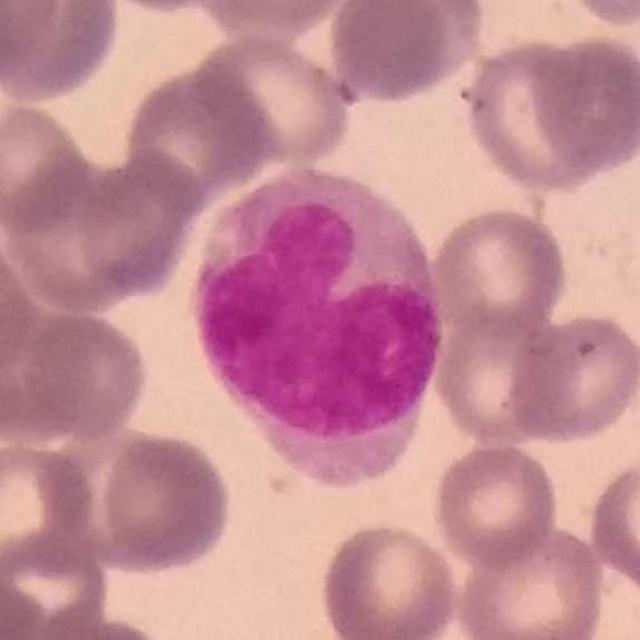Monocyte: (183, 167, 446, 491)
RBC: (455, 32, 631, 198), (187, 30, 357, 173), (118, 57, 278, 205), (67, 145, 206, 306), (92, 426, 235, 579), (429, 300, 571, 451), (8, 302, 154, 448), (425, 202, 572, 342), (502, 308, 640, 448), (452, 522, 609, 640), (316, 518, 462, 640), (429, 438, 563, 570), (322, 1, 486, 105), (0, 435, 101, 573), (0, 93, 93, 239), (0, 0, 125, 108), (0, 526, 112, 639), (584, 453, 640, 599), (189, 0, 371, 38), (0, 220, 38, 388), (0, 0, 63, 81), (20, 610, 181, 640), (0, 569, 53, 640), (85, 0, 247, 18), (554, 0, 640, 31)
